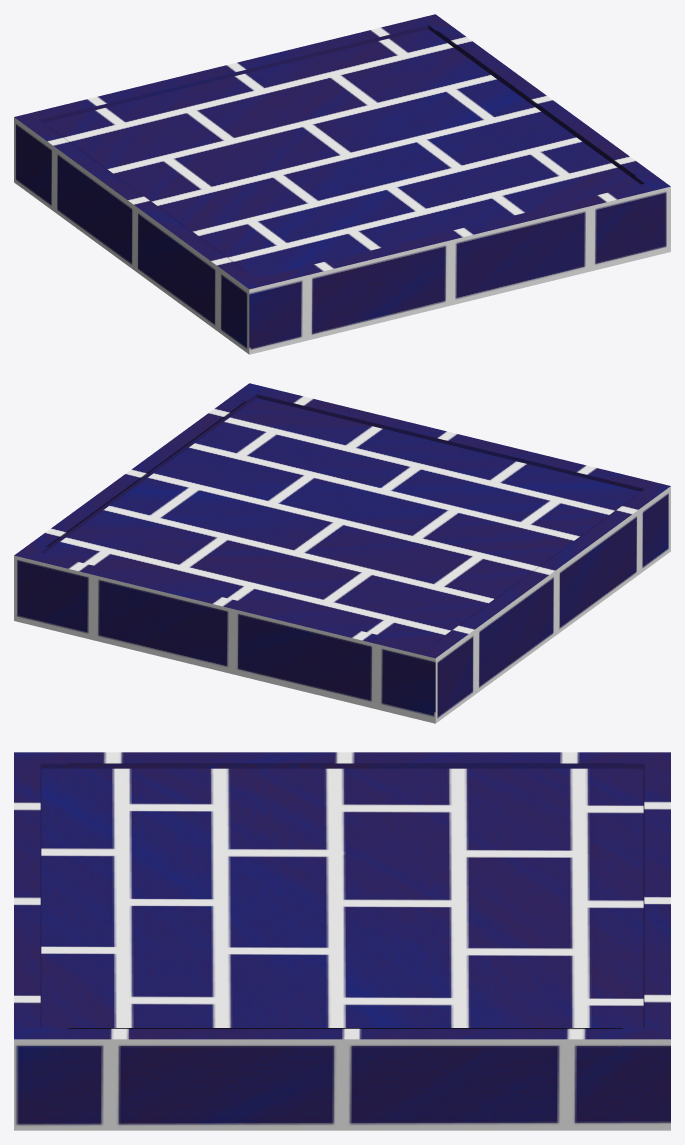
Rendered from Platform_blue.fbx.
The picture shows the model from 3 angles, top to bottom: view 1: azimuth 30°, elevation 25°; view 2: azimuth 150°, elevation 25°; view 3: azimuth 270°, elevation 25°; orthographic projection. The views are drawn at different scales.
Parts seen in each view (by area): view 1: pCube1; view 2: pCube1; view 3: pCube1.
Part boxes in pixels (x1,y1,x2,y2): pCube1: [14, 14, 670, 354]; pCube1: [14, 383, 670, 723]; pCube1: [14, 752, 670, 1130].
Size of the model in its own units: 128 by 18.93 by 124.
Materials: 1 (1 with a texture image).
